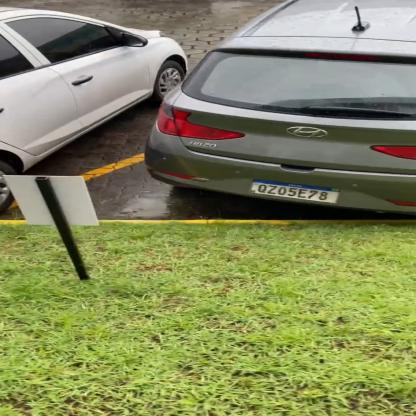Plate: (245, 176, 341, 206)
